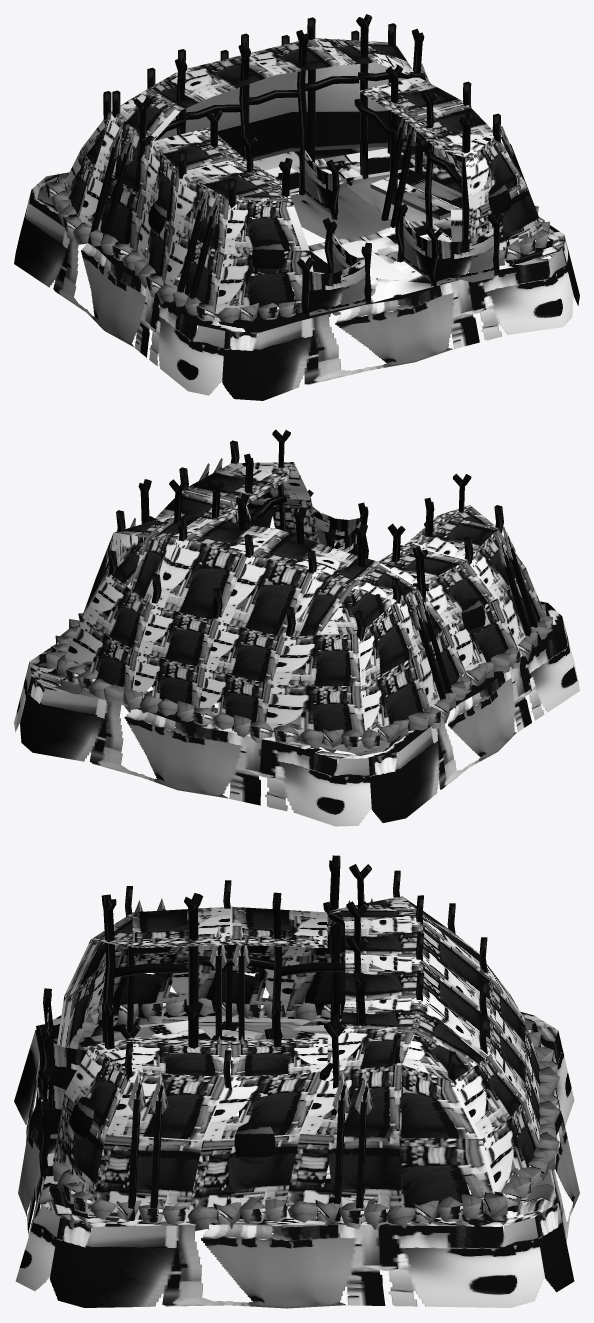
Rendered from barracks.dae.
3 renders of one model, top to bottom at view 1: azimuth 30°, elevation 25°; view 2: azimuth 150°, elevation 25°; view 3: azimuth 270°, elevation 25°, orthographic. The views are drawn at different scales.
Parts seen in each view (by area): view 1: barracks; view 2: barracks; view 3: barracks.
Part boxes in pixels (<box>): barracks: <box>14,14,579,400</box>; barracks: <box>14,429,579,826</box>; barracks: <box>14,855,579,1308</box>.
Size of the model in its own units: 21.31 by 21.66 by 11.48.
1 material, 1 textured.
